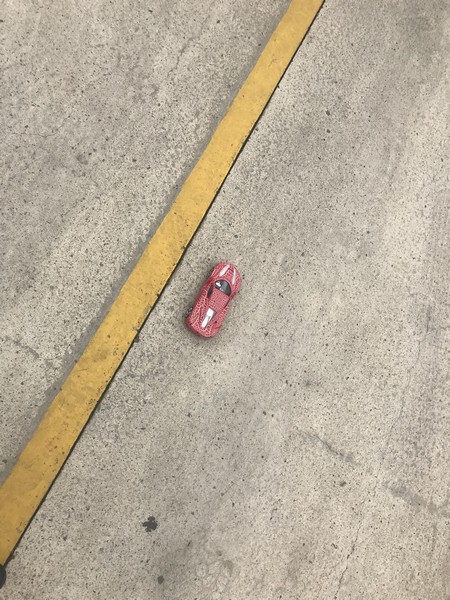RC: (184, 261, 242, 340)
